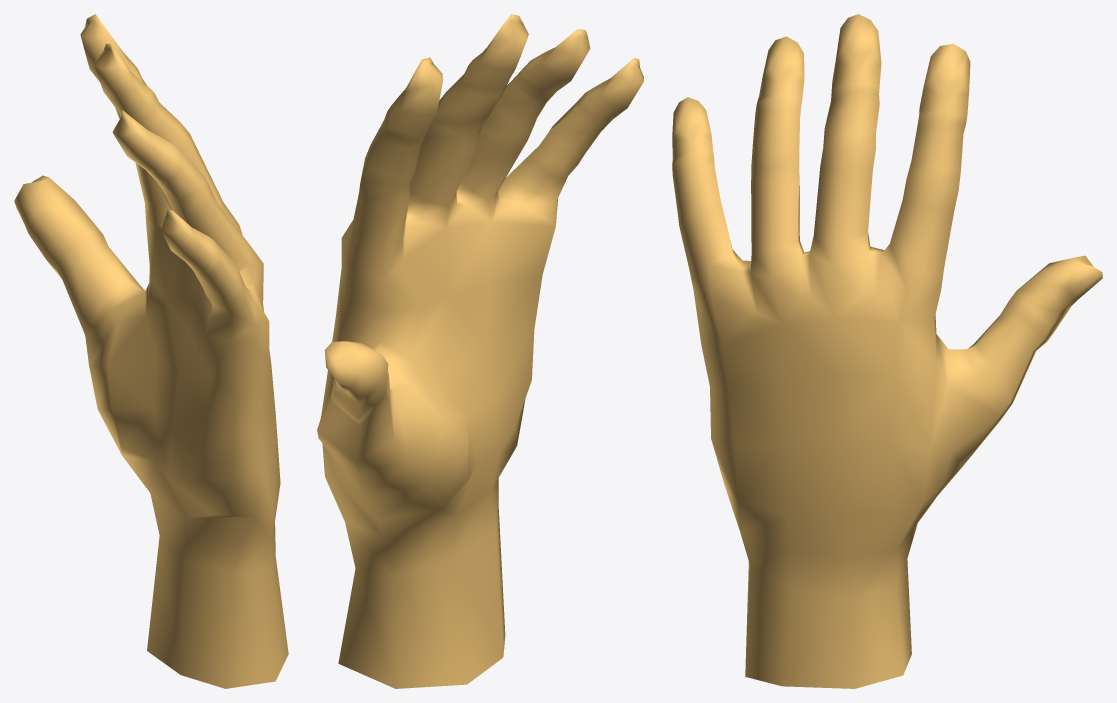
The model's file is left_hand.fbx.
The picture shows the model from 3 angles, left to right: view 1: azimuth 30°, elevation 25°; view 2: azimuth 150°, elevation 25°; view 3: azimuth 270°, elevation 25°; orthographic projection. The views are drawn at different scales.
Parts seen in each view (by area): view 1: left_hand; view 2: left_hand; view 3: left_hand.
Part boxes in pixels (x1,y1,x2,y2): left_hand: (14,14,288,688); left_hand: (317,14,643,688); left_hand: (672,14,1102,688).
Size of the model in its own units: 0.1317 by 0.4164 by 0.2658.
